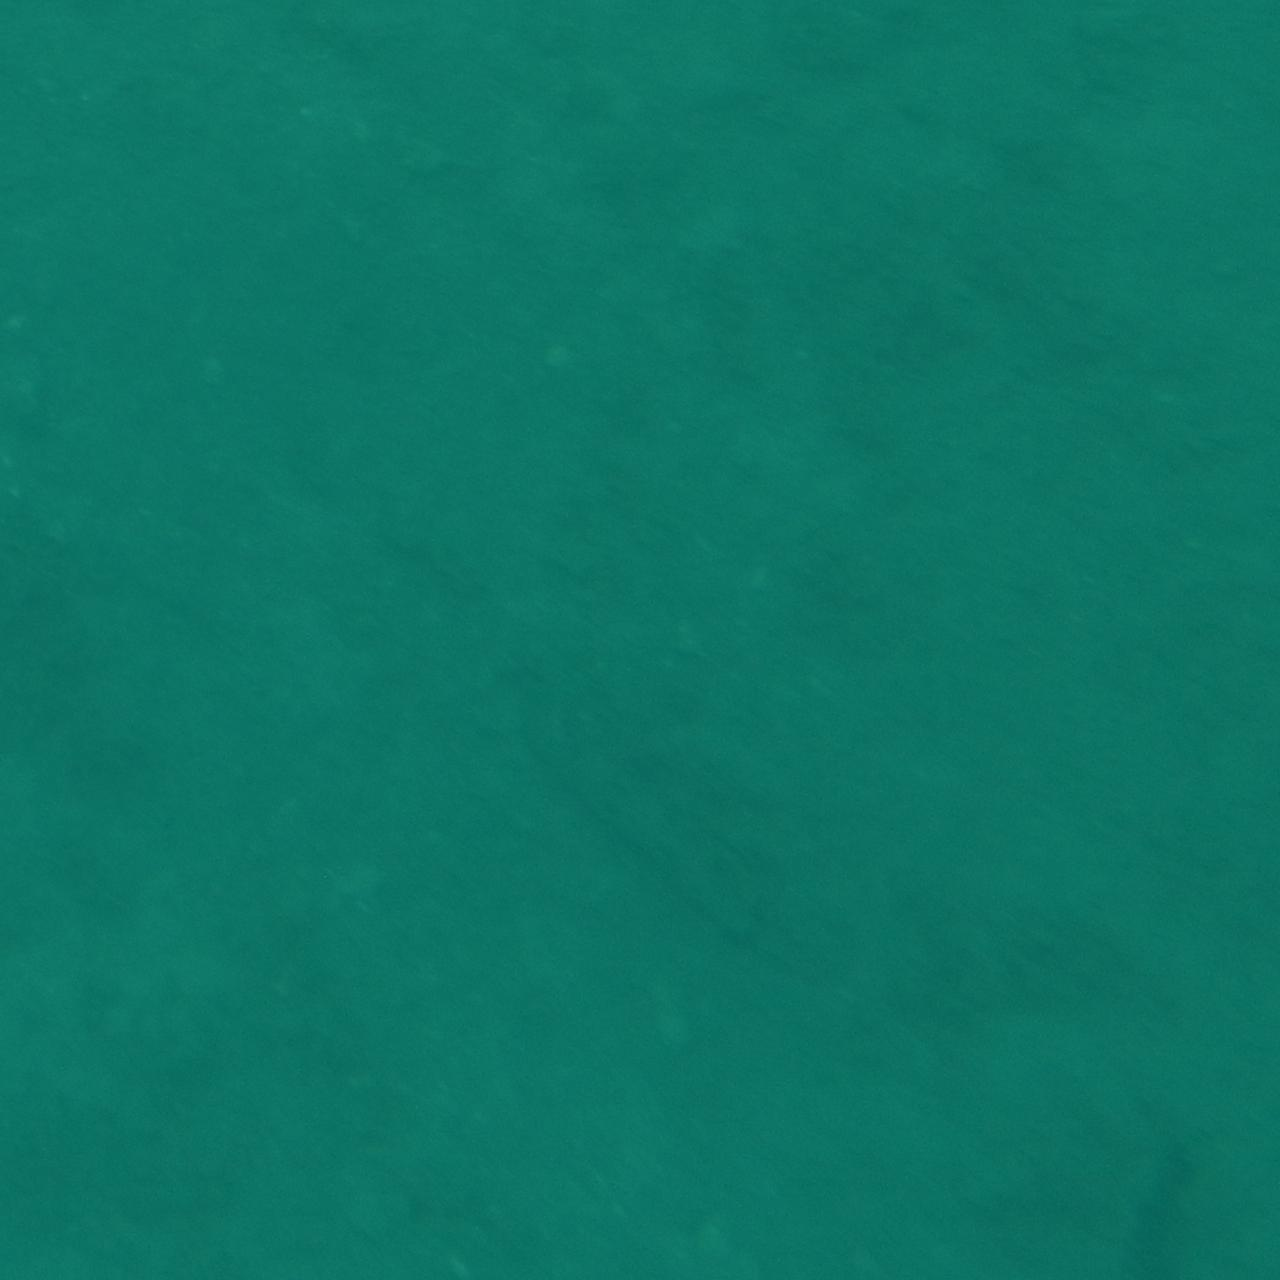Holothuria tubulosa: (484, 709, 796, 957)
